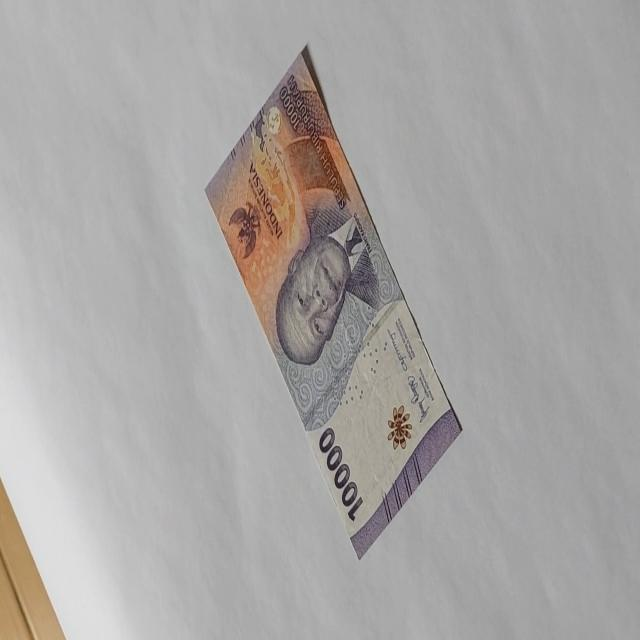sepuluh ribu rupiah: (203, 43, 463, 560)
